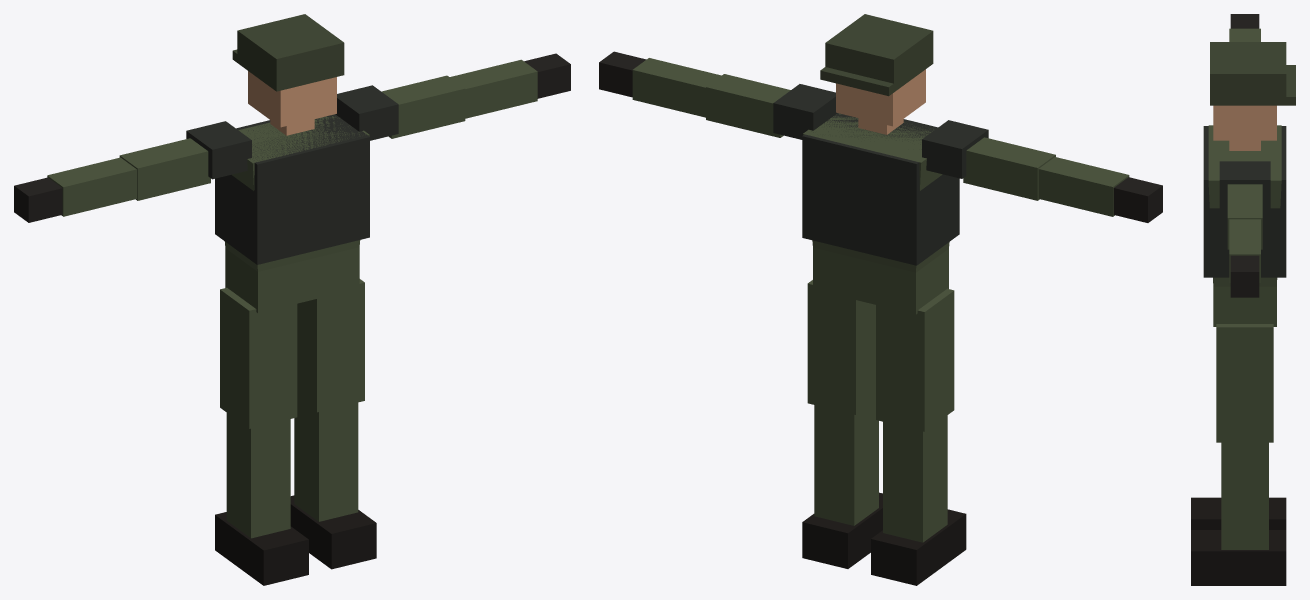
Rendered from LowPolySoldier.obj.
3 views of the same model, side by side, from view 1: azimuth 30°, elevation 25°; view 2: azimuth 150°, elevation 25°; view 3: azimuth 270°, elevation 25° (orthographic). The views are drawn at different scales.
Bounding box in the file's own units: 1.92 × 1.74 × 0.33.
